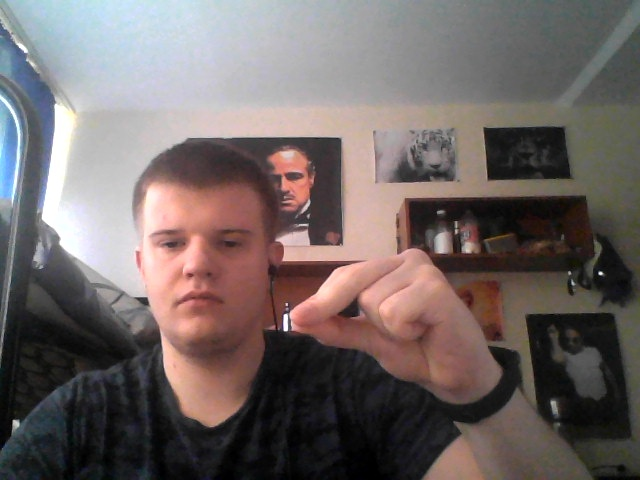no: (285, 245, 491, 393)
